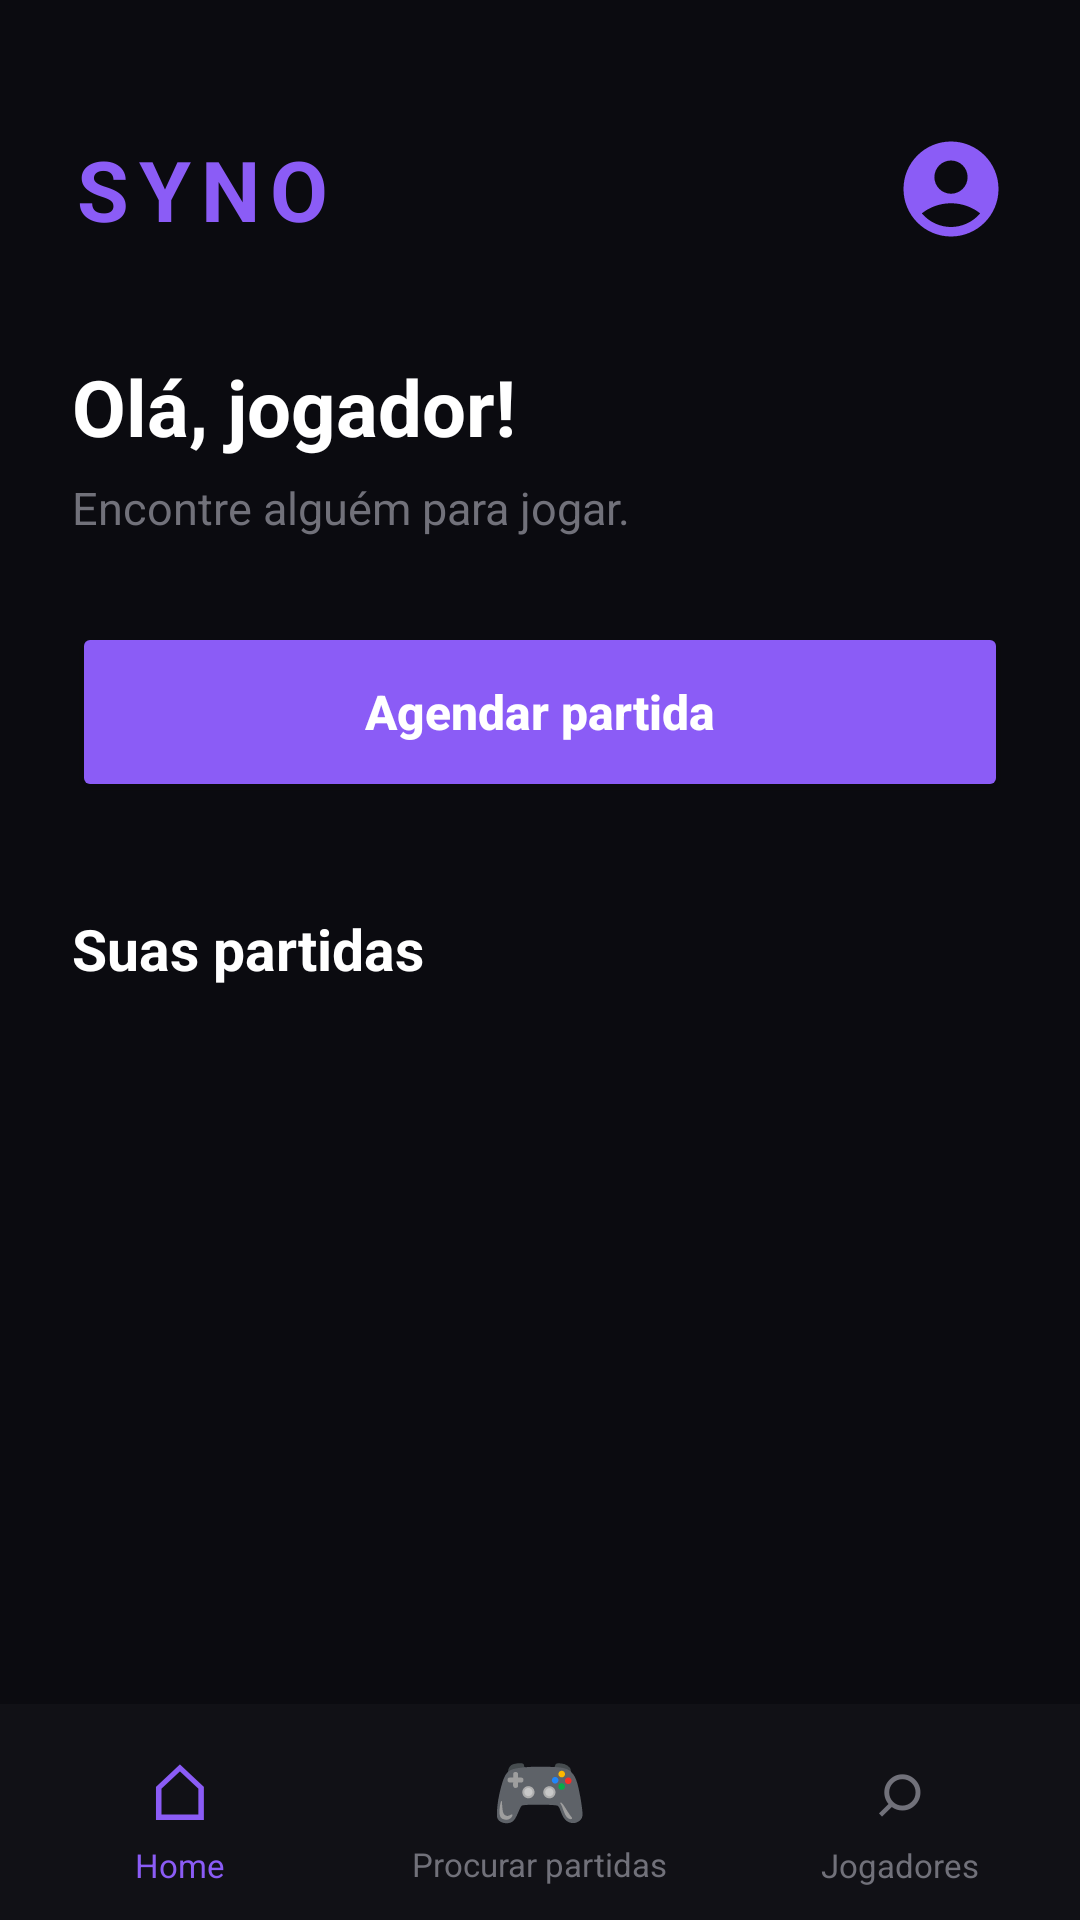

Where to tap for icons on this 1080 x 1920 app screen, as (x=x, y=y):
Perfil: (x=951, y=189)
